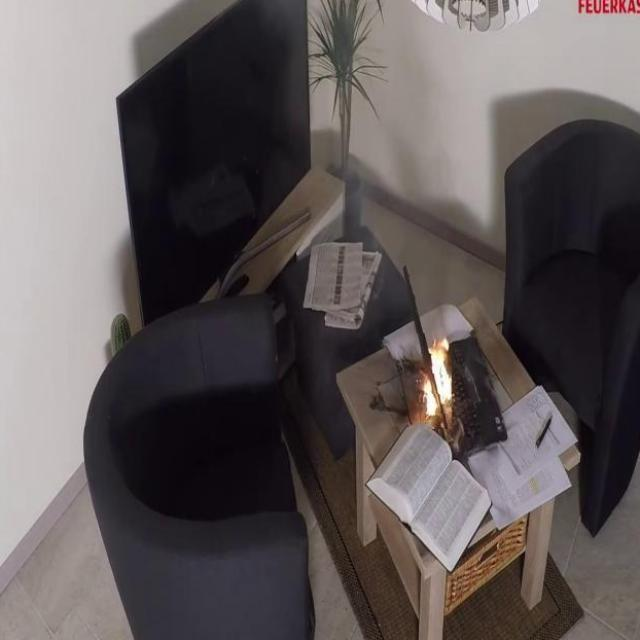smoke: (416, 322, 453, 428)
